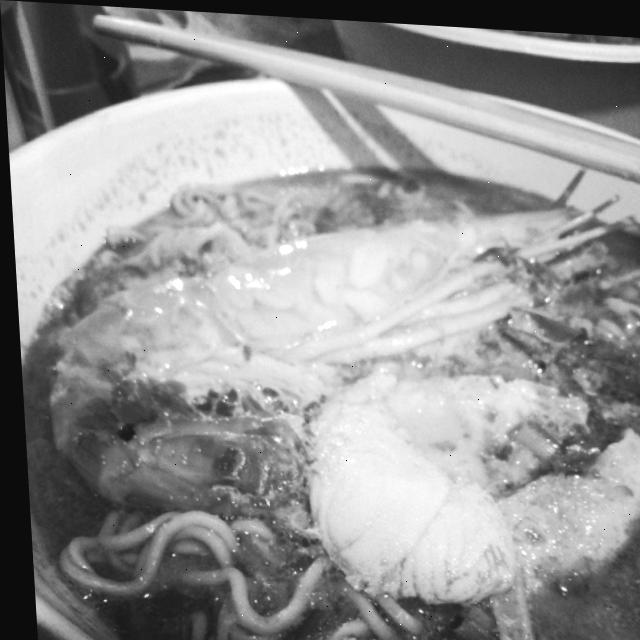汤锅炖物: (22, 104, 640, 629)
